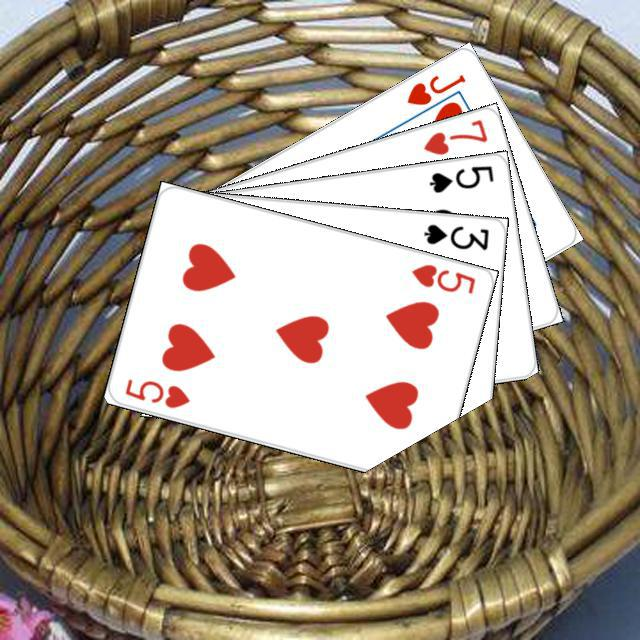3s: (419, 219, 490, 252)
5h: (119, 374, 191, 410), (406, 259, 477, 295)
5s: (424, 160, 495, 194)
7h: (418, 114, 489, 157)
Jh: (401, 69, 467, 107)
